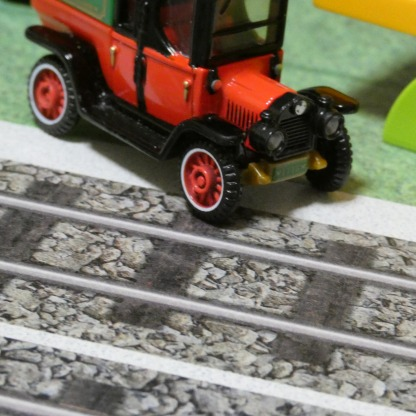car: (24, 0, 358, 220)
